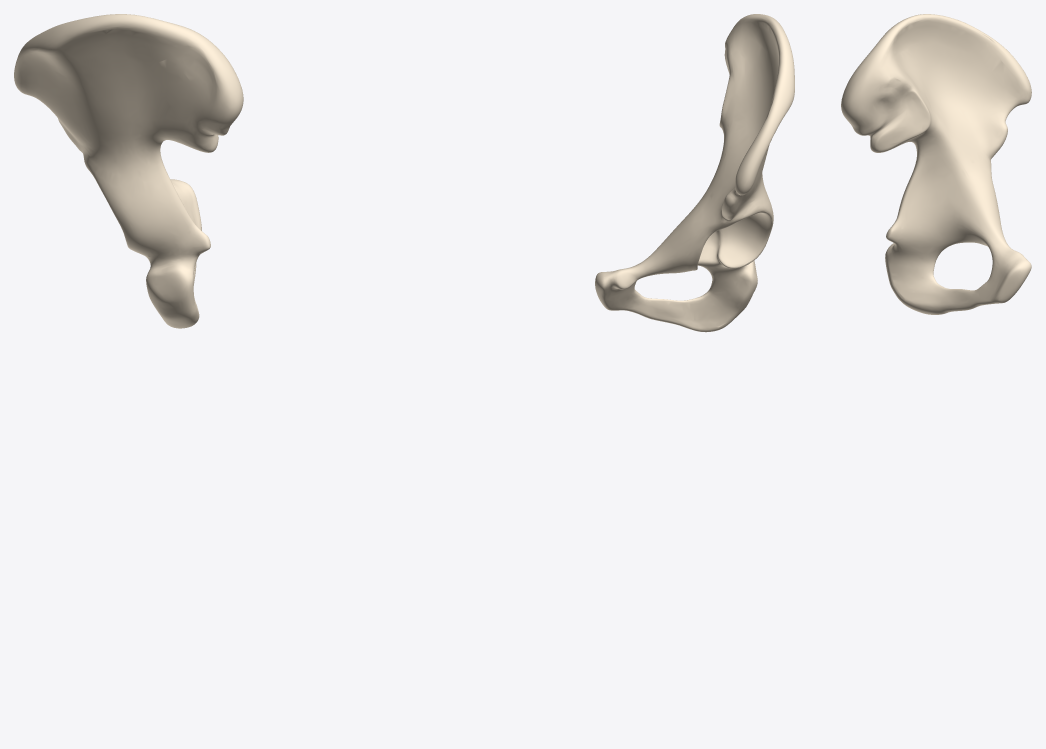
File: hip_MQ.glb
3 renders of one model, left to right at view 1: azimuth 30°, elevation 25°; view 2: azimuth 150°, elevation 25°; view 3: azimuth 270°, elevation 25°, orthographic. The views are drawn at different scales.
Parts seen in each view (by area): view 1: Hip - 0; view 2: Hip - 0; view 3: Hip - 0.
Part boxes in pixels (x1,y1,x2,y2): Hip - 0: (14,14,243,328); Hip - 0: (595,14,794,332); Hip - 0: (841,14,1031,314).
Size of the model in its own units: 27.42 by 49.48 by 14.49.
